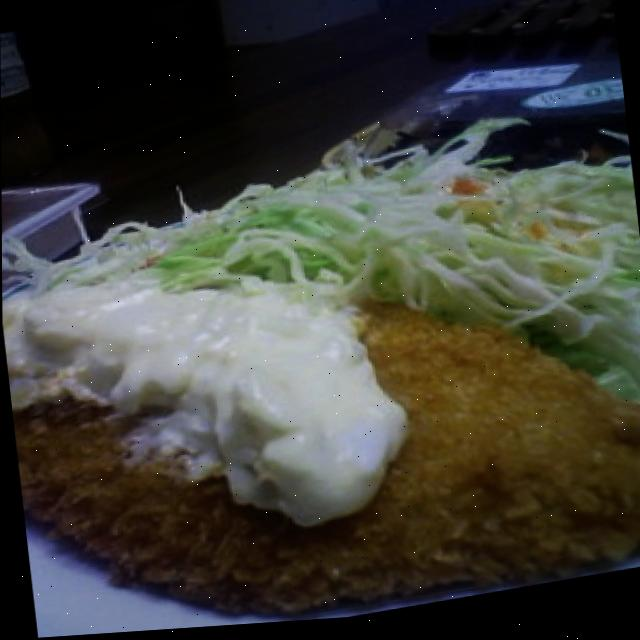炸货点心: (1, 169, 640, 640)
熟制海鲜: (1, 169, 640, 640)
